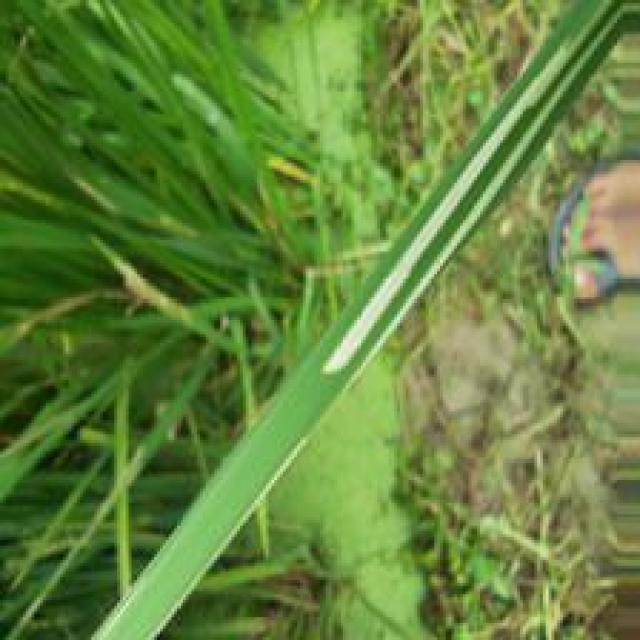Rice_Hispa: (313, 43, 570, 372), (362, 83, 566, 364)
